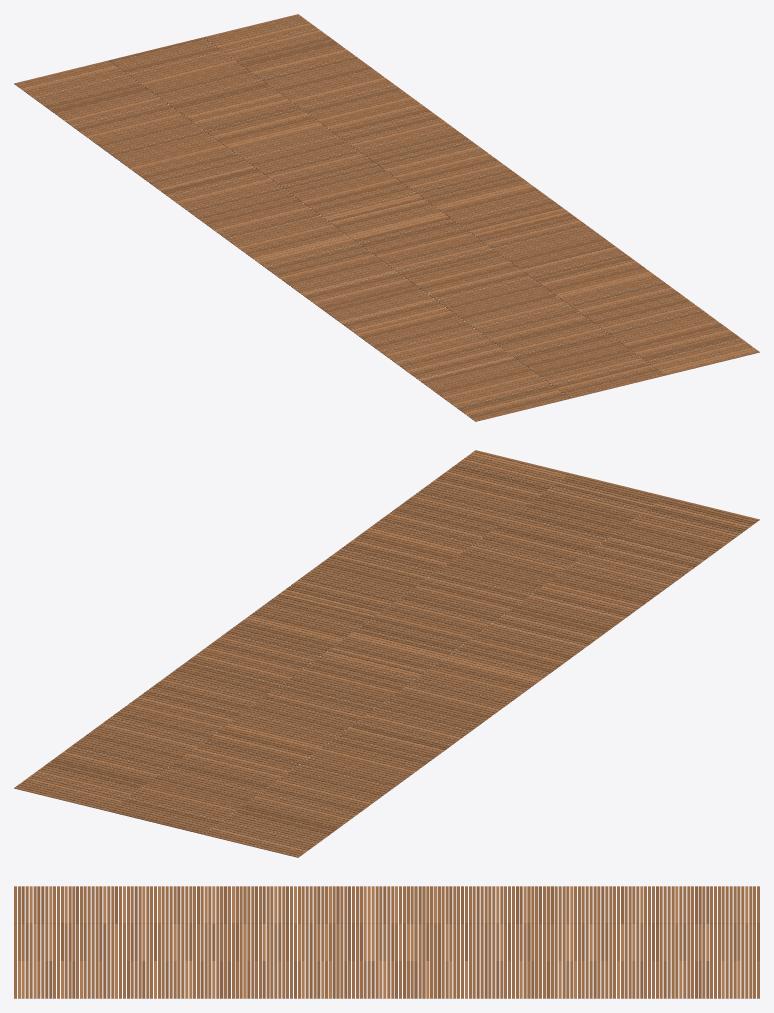
Rendered from boardwalk.fbx.
3 views of the same model, one above another, from view 1: azimuth 30°, elevation 25°; view 2: azimuth 150°, elevation 25°; view 3: azimuth 270°, elevation 25° (orthographic). The views are drawn at different scales.
Size of the model in its own units: 1768 by 3.04 by 4973.
